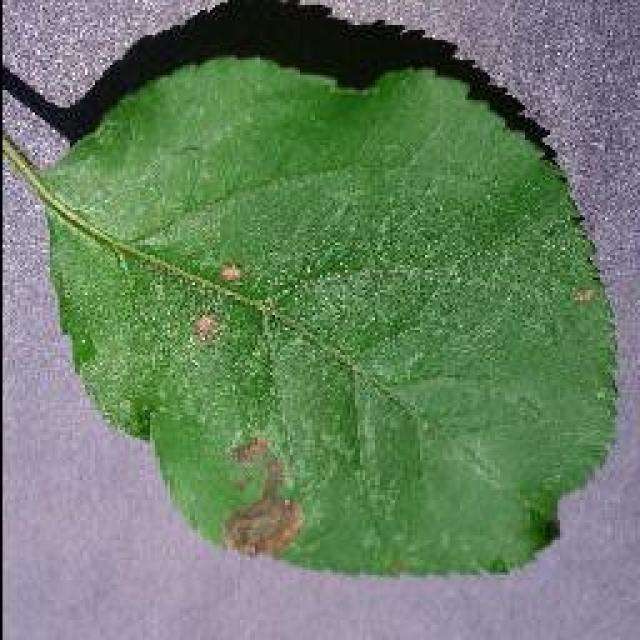apple black rot: (2, 0, 622, 580)
